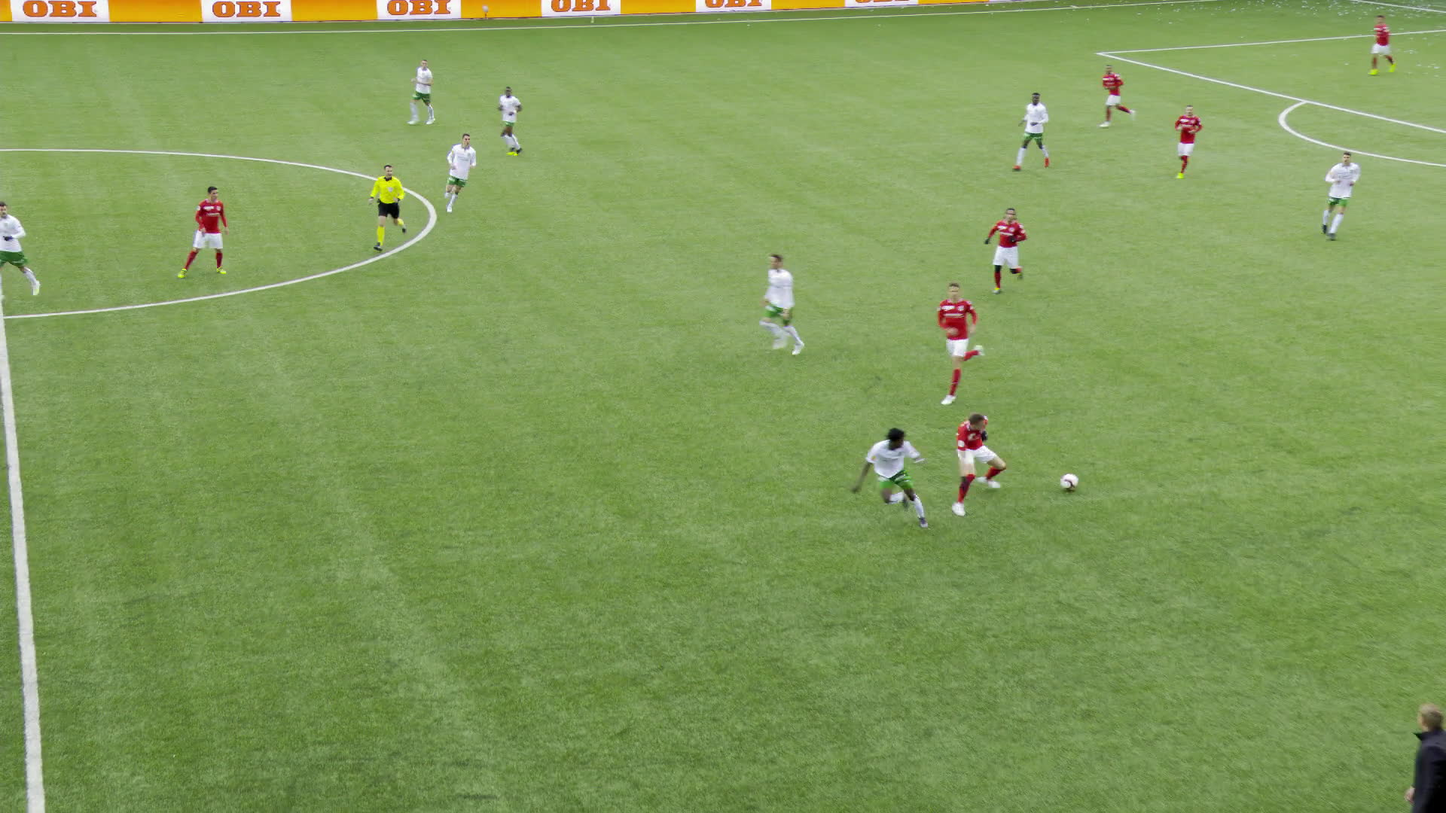ball: (1058, 473, 1079, 490)
player: (856, 425, 938, 532), (933, 280, 986, 405), (947, 410, 1006, 512), (175, 185, 230, 279), (756, 251, 805, 356), (0, 199, 42, 302), (981, 206, 1028, 294), (1320, 152, 1361, 242), (1016, 91, 1053, 172), (444, 130, 478, 216), (1104, 65, 1139, 131), (495, 87, 527, 159), (1176, 103, 1205, 178), (411, 57, 438, 126), (1376, 14, 1400, 75)
referee: (367, 165, 407, 254)
